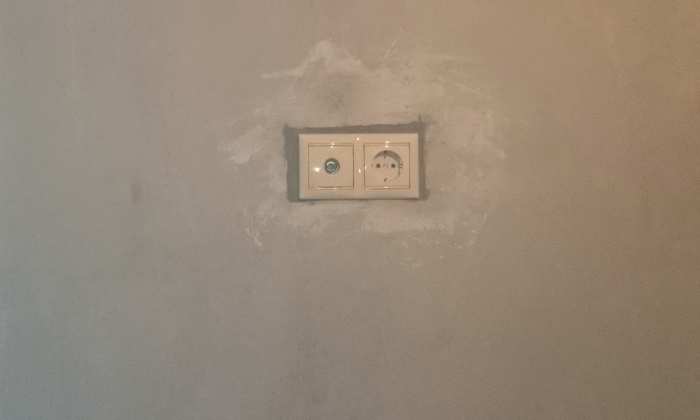raccoon: (369, 146, 403, 184)
